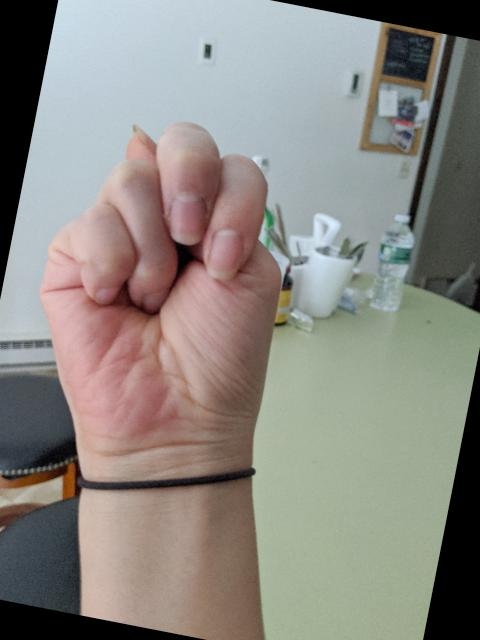N: (3, 94, 319, 498)
